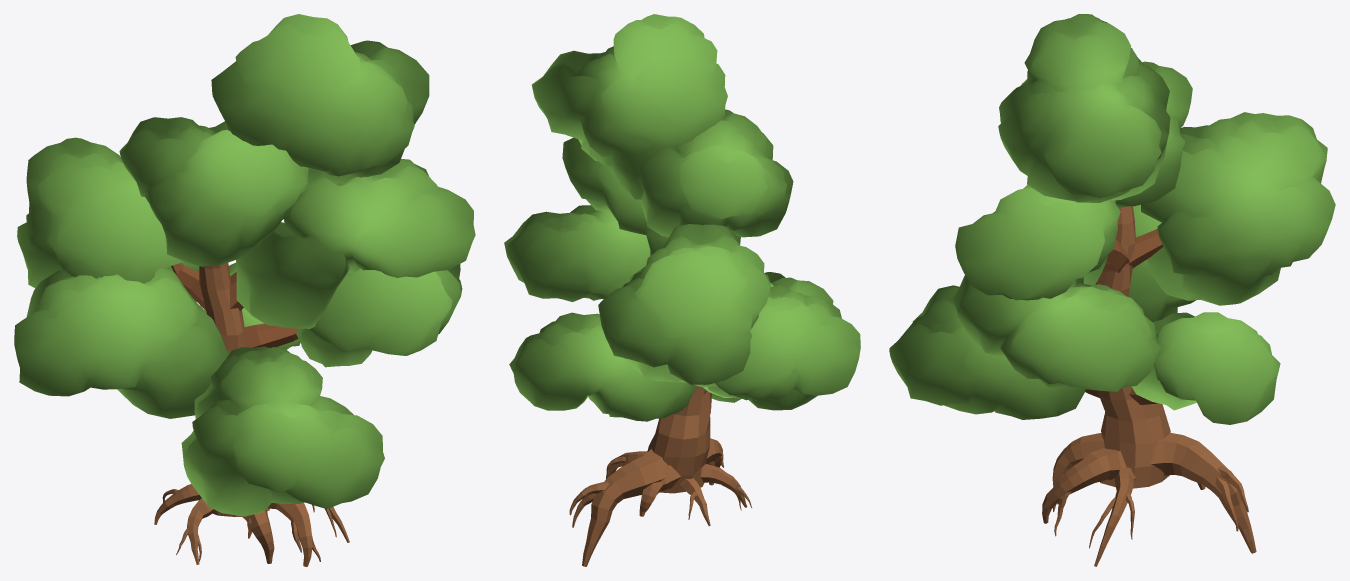
The model's file is tree_b.glb.
3 views of the same model, side by side, from view 1: azimuth 30°, elevation 25°; view 2: azimuth 150°, elevation 25°; view 3: azimuth 270°, elevation 25° (orthographic). The views are drawn at different scales.
Visible parts, largest first — view 1: BranchLeaves_6, BranchLeaves_0, BranchLeaves_5, BranchLeaves_2, CanopyLeaves, BranchLeaves_4, BranchLeaves_3, TreeWood, Branch.003, Branch.004; view 2: BranchLeaves_6, BranchLeaves_4, CanopyLeaves, BranchLeaves_1, BranchLeaves_2, TreeWood, BranchLeaves_3, BranchLeaves_5, BranchLeaves_0; view 3: BranchLeaves_4, BranchLeaves_6, BranchLeaves_3, TreeWood, BranchLeaves_5, BranchLeaves_0, BranchLeaves_1, CanopyLeaves, BranchLeaves_2, Branch.004.
Boxes of the visible parts, left/top/right/bottom form: BranchLeaves_6: left=211, top=14, right=429, bottom=192; BranchLeaves_0: left=181, top=346, right=384, bottom=516; BranchLeaves_5: left=236, top=159, right=475, bottom=328; BranchLeaves_2: left=14, top=268, right=229, bottom=418; CanopyLeaves: left=119, top=117, right=308, bottom=266; BranchLeaves_4: left=17, top=137, right=199, bottom=301; BranchLeaves_3: left=296, top=264, right=462, bottom=367; TreeWood: left=154, top=263, right=349, bottom=566; Branch.003: left=244, top=323, right=298, bottom=347; Branch.004: left=171, top=262, right=205, bottom=309; BranchLeaves_6: left=531, top=14, right=727, bottom=199; BranchLeaves_4: left=598, top=224, right=770, bottom=386; CanopyLeaves: left=637, top=109, right=793, bottom=237; BranchLeaves_1: left=509, top=312, right=696, bottom=421; BranchLeaves_2: left=703, top=285, right=860, bottom=400; TreeWood: left=569, top=385, right=751, bottom=566; BranchLeaves_3: left=504, top=205, right=650, bottom=301; BranchLeaves_5: left=562, top=137, right=740, bottom=255; BranchLeaves_0: left=711, top=272, right=833, bottom=410; BranchLeaves_4: left=1141, top=112, right=1335, bottom=305; BranchLeaves_6: left=998, top=14, right=1170, bottom=202; BranchLeaves_3: left=953, top=275, right=1161, bottom=391; TreeWood: left=1042, top=206, right=1256, bottom=566; BranchLeaves_5: left=955, top=185, right=1120, bottom=300; BranchLeaves_0: left=889, top=285, right=1085, bottom=419; BranchLeaves_1: left=1131, top=312, right=1280, bottom=424; CanopyLeaves: left=1115, top=61, right=1192, bottom=207; BranchLeaves_2: left=1128, top=204, right=1195, bottom=321; Branch.004: left=1128, top=228, right=1163, bottom=268.
Size of the model in its own units: 10.36 by 13.18 by 10.
